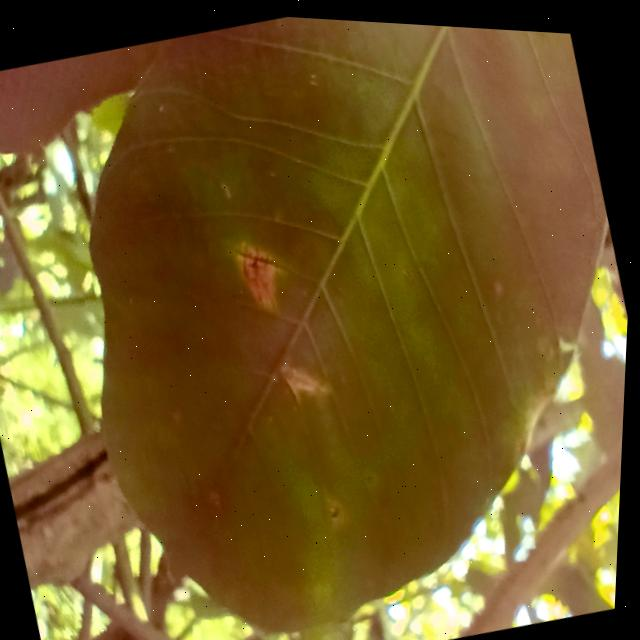Corynespora: (235, 238, 279, 276)
Leaf-Blight: (237, 243, 285, 306)
